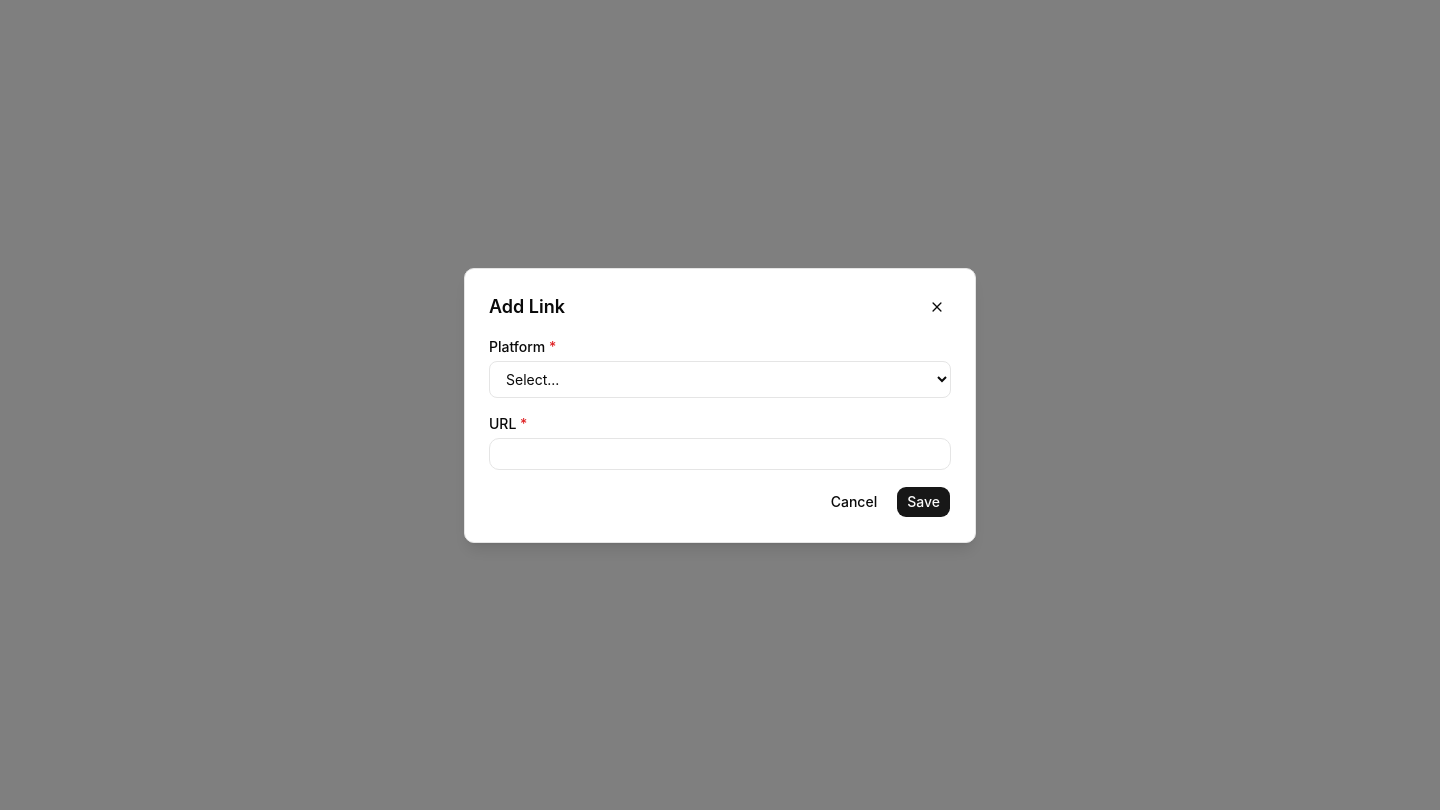
Test: EditDialog hint field › hint appears when platform changes to verifiable
Expected: the text "Add your Sifa profile URL" is not shown
Select "GitHub" in the dropdown at x=720, y=379, box left=489, top=360, right=951, bottom=398
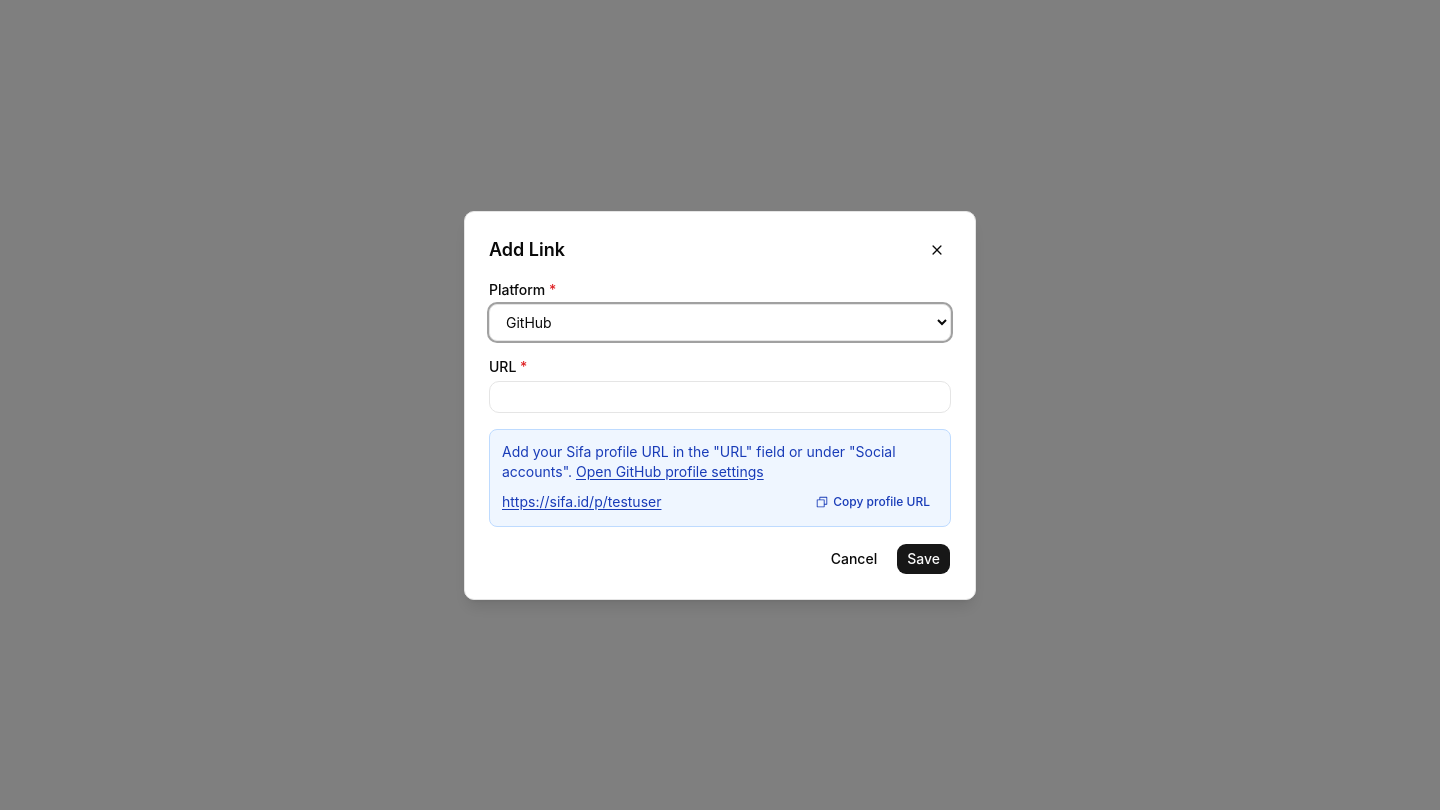
Result: the text "Add your Sifa profile URL" is shown at left=502, top=442, right=896, bottom=480
